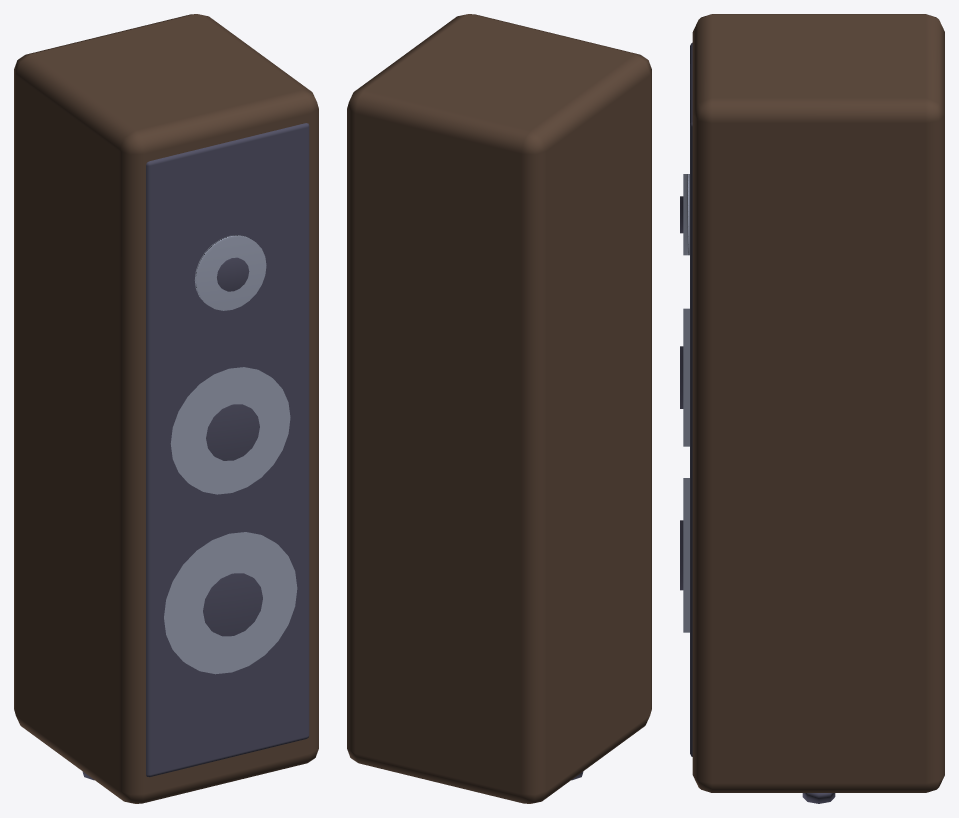
The model's file is speaker.glb.
3 views of the same model, side by side, from view 1: azimuth 30°, elevation 25°; view 2: azimuth 150°, elevation 25°; view 3: azimuth 270°, elevation 25° (orthographic). The views are drawn at different scales.
Parts seen in each view (by area): view 1: speaker; view 2: speaker; view 3: speaker.
Part boxes in pixels (x1,y1,x2,y2): speaker: [14, 14, 318, 803]; speaker: [347, 14, 651, 803]; speaker: [680, 14, 944, 803].
Size of the model in its own units: 0.2887 by 0.9544 by 0.3244.
